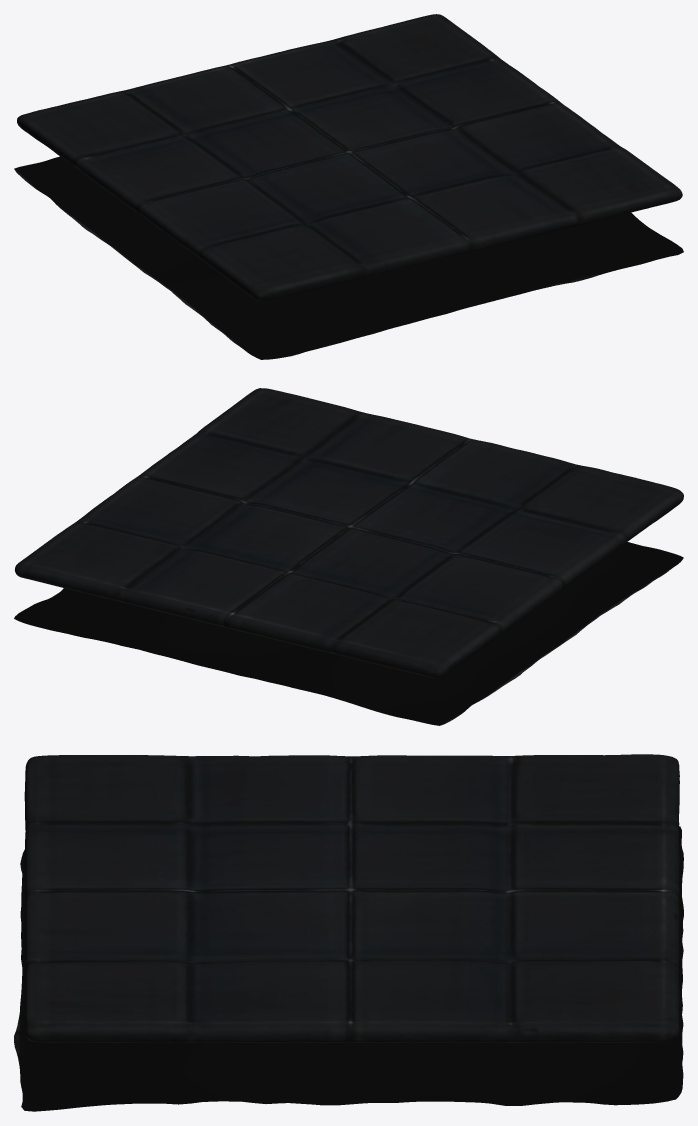
The model's file is blackTile.glb.
3 renders of one model, top to bottom at view 1: azimuth 30°, elevation 25°; view 2: azimuth 150°, elevation 25°; view 3: azimuth 270°, elevation 25°, orthographic. The views are drawn at different scales.
Visible parts, largest first — view 1: mesh; view 2: mesh; view 3: mesh.
Boxes of the visible parts, x1,y1,x2,y2 form: mesh: (14,14,683,359); mesh: (14,388,683,725); mesh: (14,754,683,1111).
Bounding box in the file's own units: 0.9885 × 0.1521 × 0.9993.
Materials: 1 (1 with a texture image).
